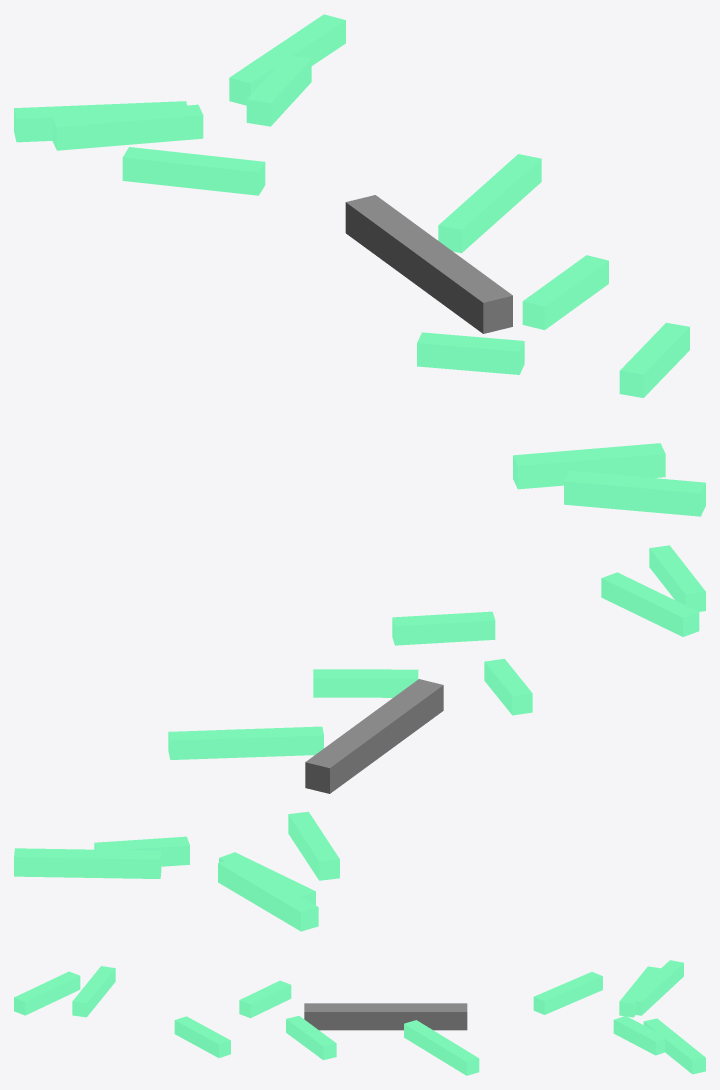
Rendered from lore_sigil.glb.
The picture shows the model from 3 angles, top to bottom: view 1: azimuth 30°, elevation 25°; view 2: azimuth 150°, elevation 25°; view 3: azimuth 270°, elevation 25°; orthographic projection. The views are drawn at different scales.
Parts seen in each view (by area): view 1: Cube, Cube.009, Cube.002, Cube.004, Cube.007, Cube.003, Cube.011, Cube.005, Cube.006, Cube.001, Cube.008, Cube.010; view 2: Cube, Cube.003, Cube.005, Cube.007, Cube.010, Cube.001, Cube.006, Cube.002, Cube.004, Cube.011, Cube.008, Cube.009; view 3: Cube, Cube.003, Cube.002, Cube.004, Cube.010, Cube.005, Cube.001, Cube.006, Cube.007, Cube.008, Cube.011, Cube.009.
Part boxes in pixels (x1,y1,x2,y2): Cube: (345,195,512,333); Cube.009: (52,104,203,150); Cube.002: (122,147,265,195); Cube.004: (564,470,705,516); Cube.007: (513,443,665,489); Cube.003: (438,154,541,253); Cube.011: (417,332,524,374); Cube.005: (229,14,345,105); Cube.006: (522,255,608,330); Cube.001: (619,322,689,397); Cube.008: (246,55,311,126); Cube.010: (14,101,187,142); Cube: (305,679,443,793); Cube.003: (168,726,323,759); Cube.005: (14,848,161,878); Cube.007: (601,572,699,636); Cube.010: (218,858,318,931); Cube.001: (392,611,495,645); Cube.006: (313,669,418,697); Cube.002: (288,811,339,880); Cube.004: (649,545,705,611); Cube.011: (484,658,532,715); Cube.008: (94,836,189,866); Cube.009: (219,852,315,905); Cube: (304,1003,467,1030); Cube.003: (404,1020,479,1075); Cube.002: (533,972,602,1014); Cube.004: (14,971,80,1015); Cube.010: (629,960,683,1015); Cube.005: (643,1018,705,1074); Cube.001: (174,1016,230,1057); Cube.006: (286,1016,336,1060); Cube.007: (72,966,115,1017); Cube.008: (613,1015,667,1055); Cube.011: (239,980,291,1018); Cube.009: (619,966,661,1017).
Bounding box in the file's own units: 2.37 × 0.2 × 6.8.
